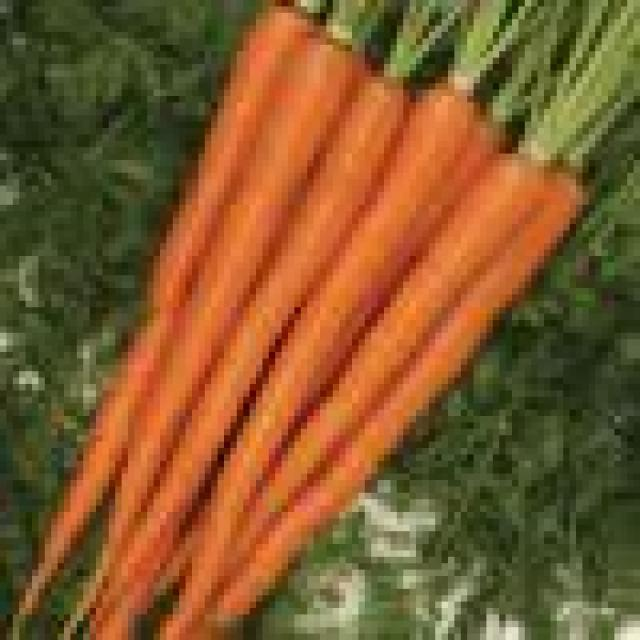Fresh_Carrot: (125, 13, 198, 554), (269, 37, 308, 483)
